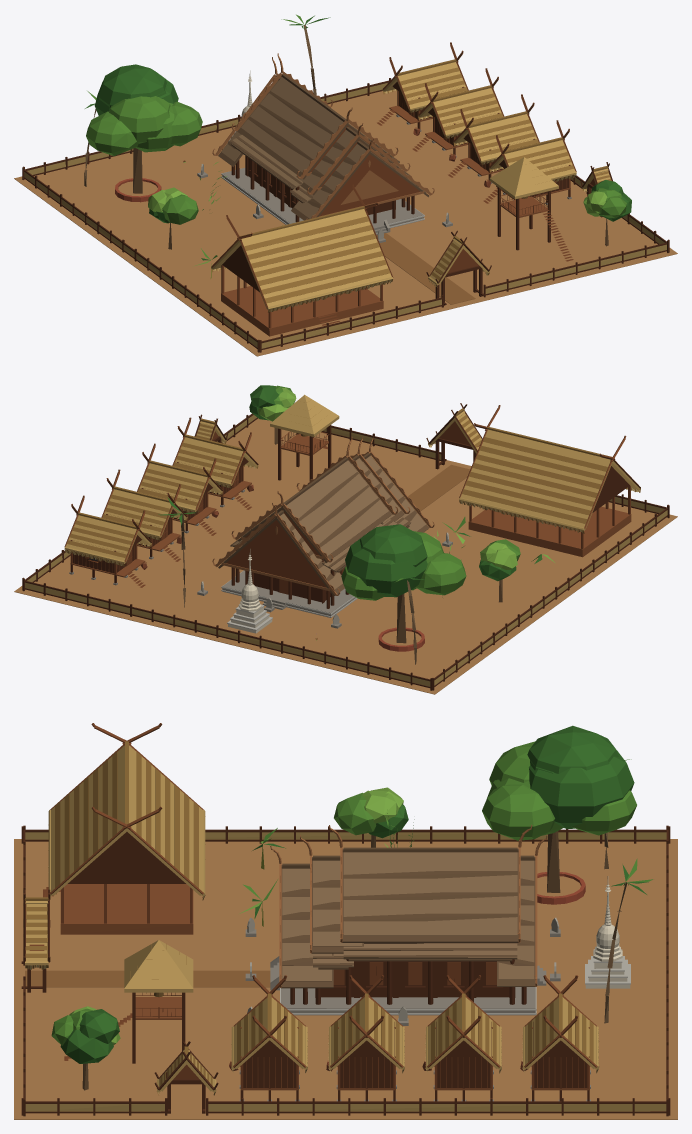
The model's file is temple_2.glb.
3 renders of one model, top to bottom at view 1: azimuth 30°, elevation 25°; view 2: azimuth 150°, elevation 25°; view 3: azimuth 270°, elevation 25°, orthographic. The views are drawn at different scales.
Visible parts, largest first — view 1: body; view 2: body; view 3: body.
Part boxes in pixels (x1,y1,x2,y2): body: (14,14,677,356); body: (14,385,677,694); body: (14,723,677,1119).
Bounding box in the file's own units: 47.9 × 13.02 × 47.9.
